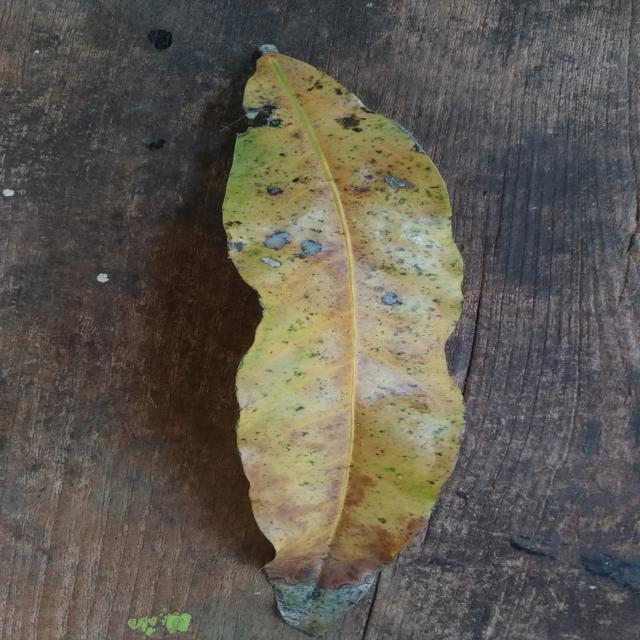seethaashoka: (222, 48, 464, 588)
